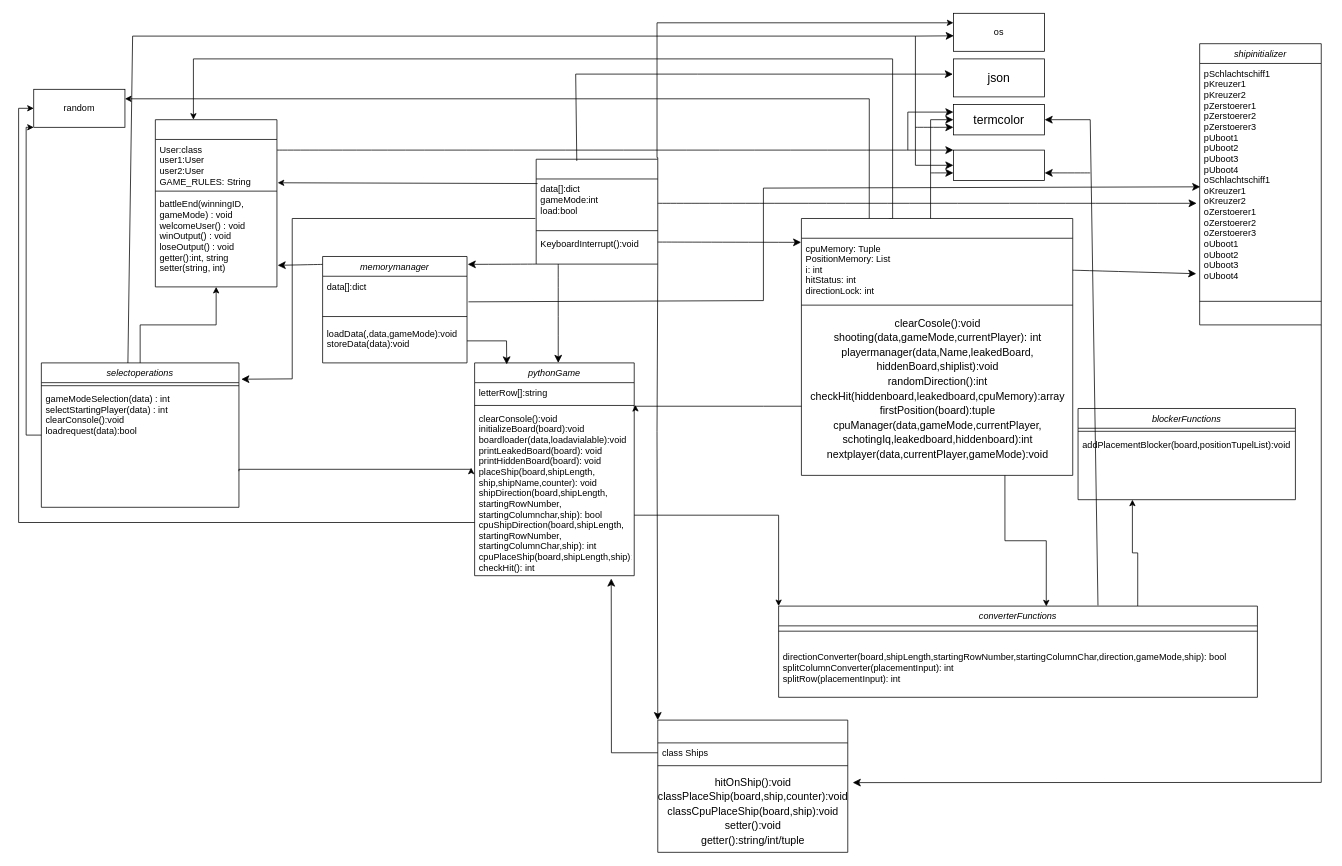
This 1342x866 diagram has some shape labels left out. The shapes that lost their labels are listed below. From the top down, each one's box as (x1, y1, x2, y2) in pixels, then its label:
(953, 149, 1045, 180): colorama
(155, 119, 277, 287): outputManager
(535, 158, 658, 264): main
(801, 218, 1073, 475): shootingFunction
(657, 719, 848, 852): shipManager
